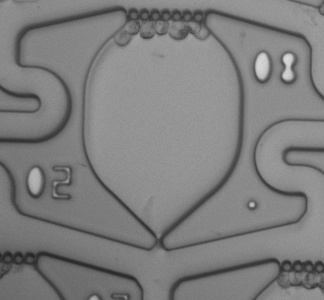AptNum: (245, 47, 307, 92)
Marker: (238, 192, 268, 219)
StNum: (19, 160, 81, 210)
Trap: (139, 238, 183, 280)
